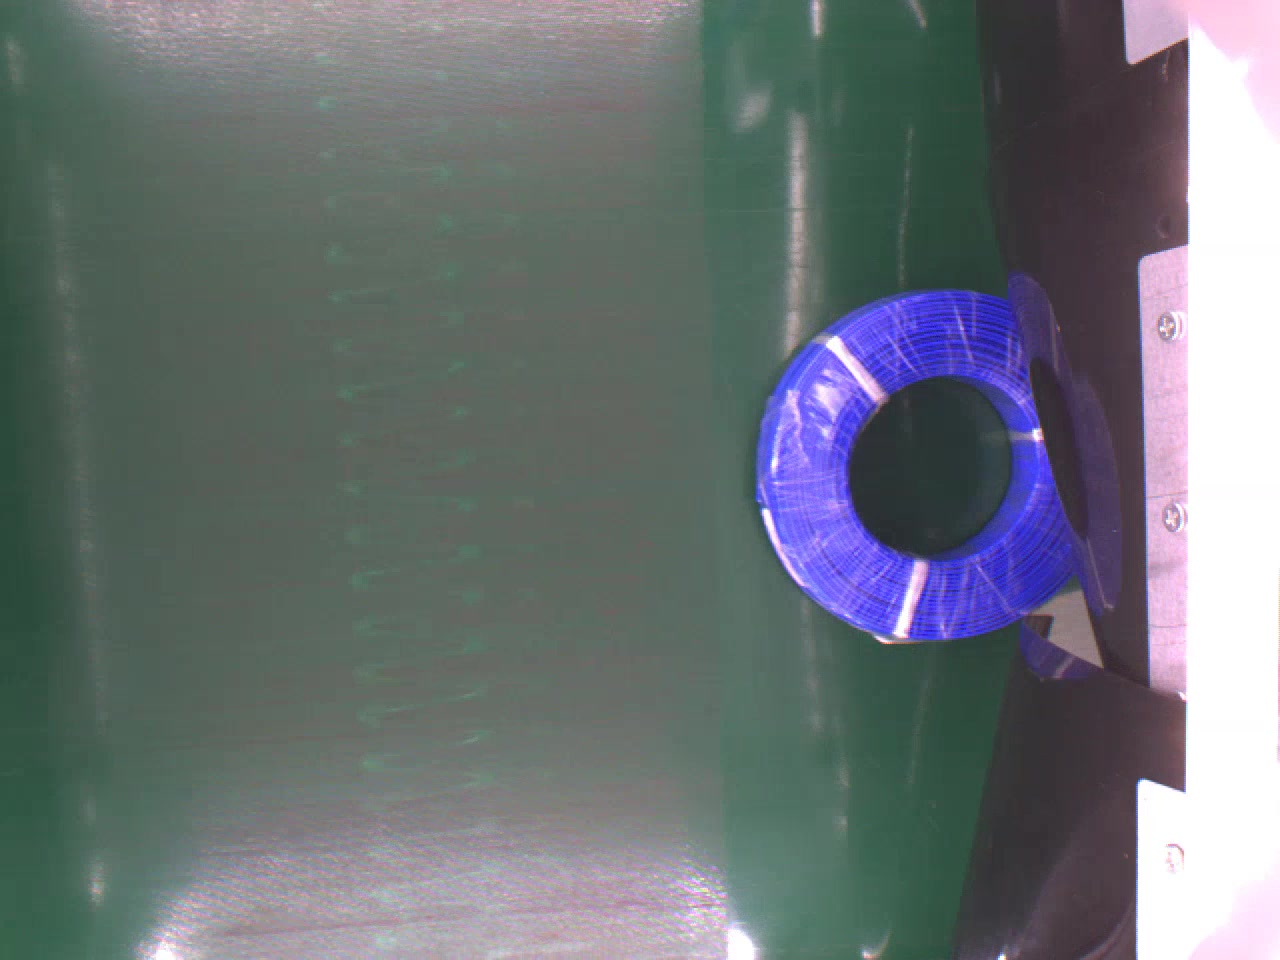blue: (751, 287, 1077, 644)
